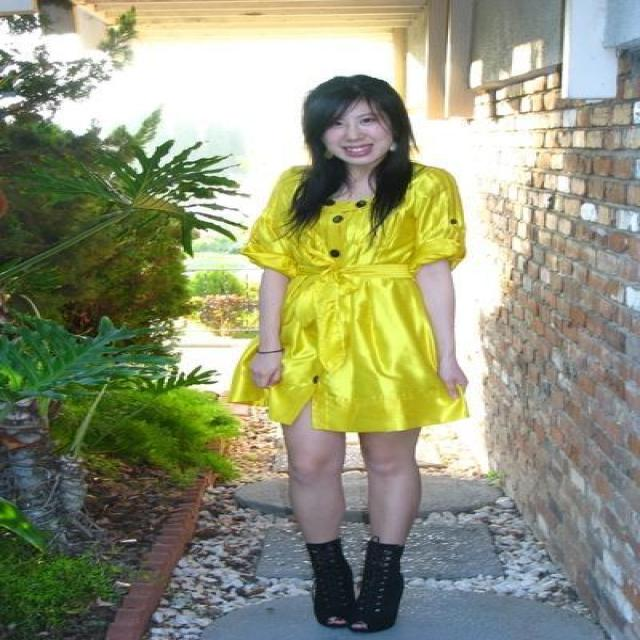dress: (227, 166, 469, 432)
shoe: (306, 536, 402, 632)
